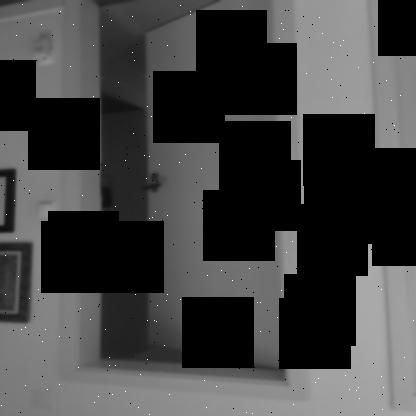Porte: (56, 1, 312, 405)
